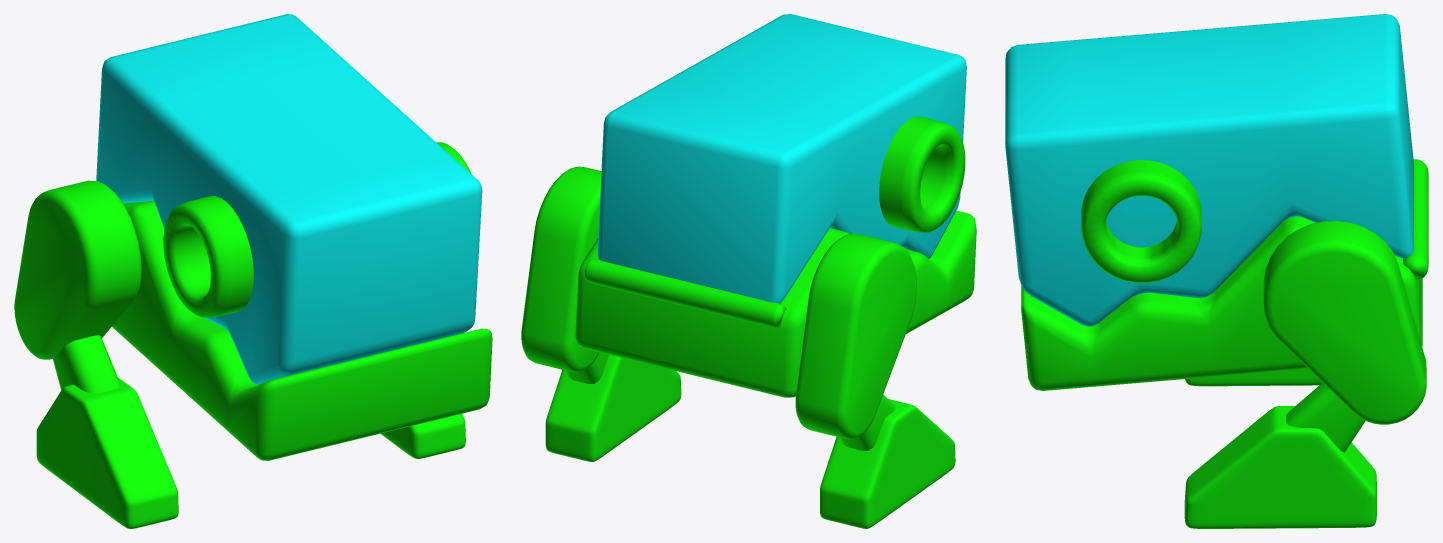
3 views of the same model, side by side, from view 1: azimuth 30°, elevation 25°; view 2: azimuth 150°, elevation 25°; view 3: azimuth 270°, elevation 25° (orthographic). The views are drawn at different scales.
Parts seen in each view (by area): view 1: Top_Jaw, Lower_Jaw, Thighs_Left, Feet_Left, Eyes, Shin_Left, Feet_Right; view 2: Top_Jaw, Lower_Jaw, Thighs_Left, Thighs_Right, Feet_Left, Feet_Right, Eyes, Hinge, Shin_Left, Shin_Right; view 3: Top_Jaw, Lower_Jaw, Thighs_Right, Feet_Right, Eyes, Shin_Right, Hinge, Feet_Left.
Part boxes in pixels (x1,y1,x2,y2): Top_Jaw: (96,14,482,384); Lower_Jaw: (112,200,492,460); Thighs_Left: (14,180,141,359); Feet_Left: (36,378,178,528); Eyes: (163,142,471,317); Shin_Left: (53,335,120,393); Feet_Right: (381,414,465,458); Top_Jaw: (597,14,966,303); Lower_Jaw: (575,210,976,397); Thighs_Left: (795,233,916,439); Thighs_Right: (521,166,601,372); Feet_Left: (820,399,955,528); Feet_Right: (545,355,681,461); Eyes: (879,116,965,232); Hinge: (584,259,786,327); Shin_Left: (840,394,895,450); Shin_Right: (566,352,608,384); Top_Jaw: (1005,14,1413,326); Lower_Jaw: (1021,216,1422,390); Thighs_Right: (1263,220,1426,424); Feet_Right: (1184,406,1376,528); Eyes: (1081,160,1201,282); Shin_Right: (1286,383,1365,452); Hinge: (1403,159,1428,280); Feet_Left: (1185,368,1322,386).
Size of the model in its own units: 2.03 by 2.16 by 2.13.
